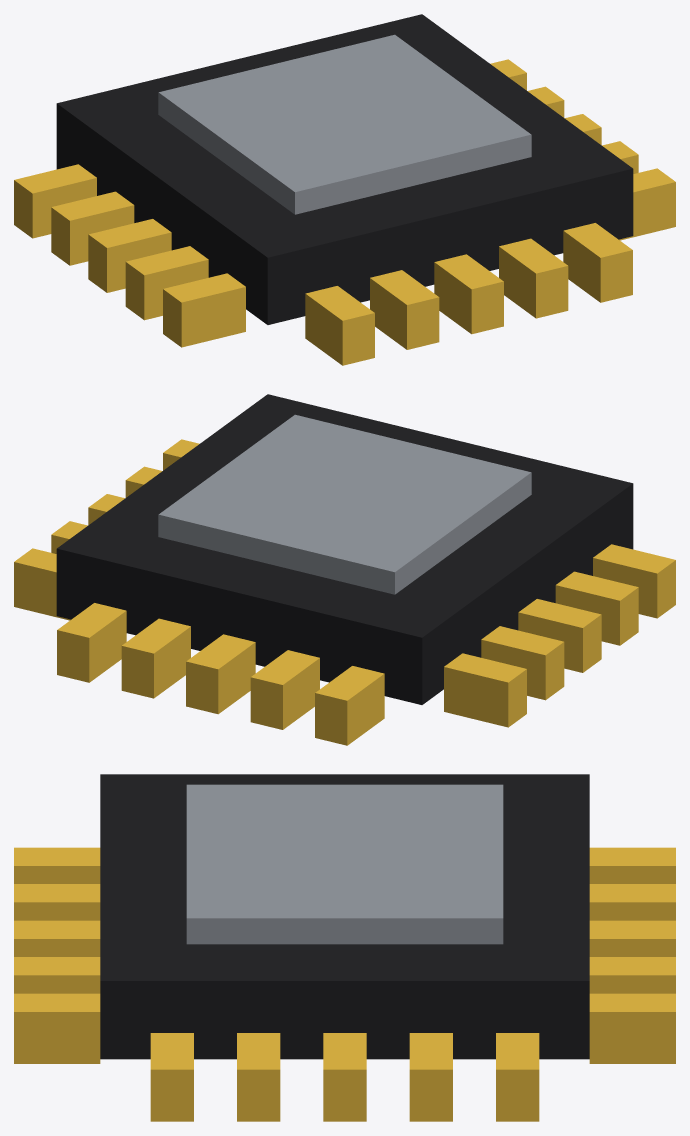
File: processor.glb
3 renders of one model, top to bottom at view 1: azimuth 30°, elevation 25°; view 2: azimuth 150°, elevation 25°; view 3: azimuth 270°, elevation 25°, orthographic. The views are drawn at different scales.
Visible parts, largest first — view 1: processor; view 2: processor; view 3: processor.
Part boxes in pixels (box(x1,y1,x2,y2)): processor: box(14, 14, 675, 365); processor: box(14, 394, 675, 745); processor: box(14, 774, 675, 1121).
Size of the model in its own units: 0.92 by 0.2 by 0.92.
